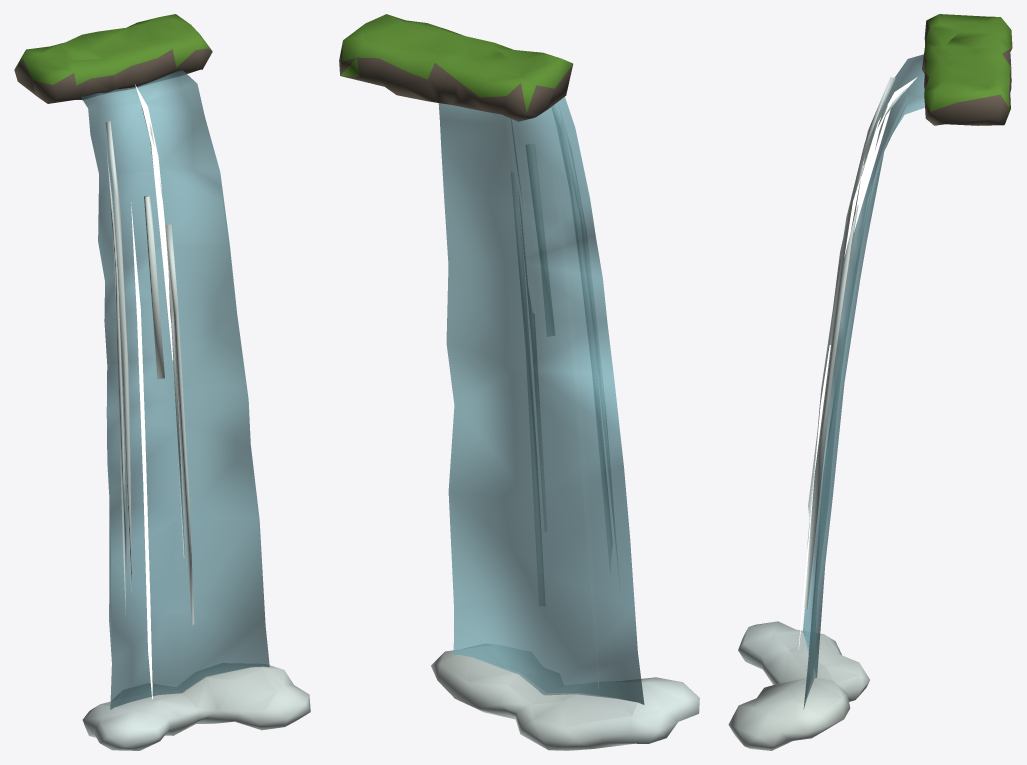
The model's file is glade_waterfall_lod2.glb.
The picture shows the model from 3 angles, left to right: view 1: azimuth 30°, elevation 25°; view 2: azimuth 150°, elevation 25°; view 3: azimuth 270°, elevation 25°; orthographic projection. The views are drawn at different scales.
Parts seen in each view (by area): view 1: glade_waterfall.001; view 2: glade_waterfall.001; view 3: glade_waterfall.001.
Boxes of the visible parts, x1=… form: glade_waterfall.001: x1=14, y1=14, x2=310, y2=750; glade_waterfall.001: x1=339, y1=14, x2=699, y2=750; glade_waterfall.001: x1=728, y1=14, x2=1012, y2=750.
Size of the model in its own units: 5.16 by 14.95 by 5.83.
